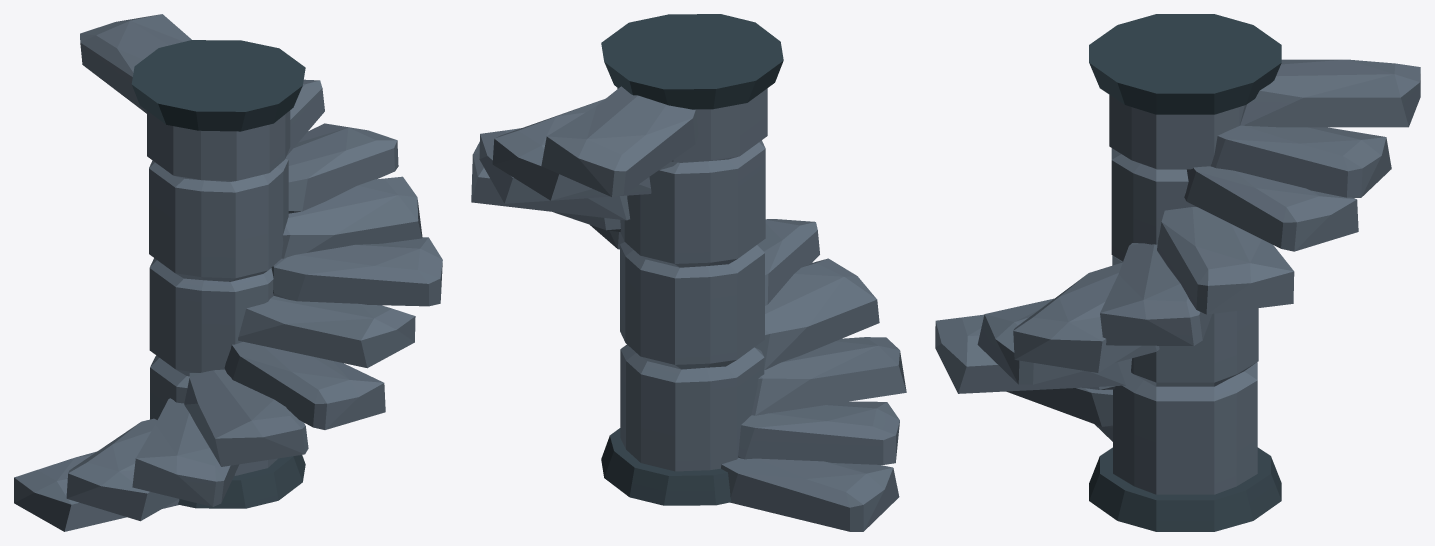
Rendered from Staircase_stone_thin_A.fbx.
The picture shows the model from 3 angles, left to right: view 1: azimuth 30°, elevation 25°; view 2: azimuth 150°, elevation 25°; view 3: azimuth 270°, elevation 25°; orthographic projection. The views are drawn at different scales.
Parts seen in each view (by area): view 1: Staircase_stone_thin_A; view 2: Staircase_stone_thin_A; view 3: Staircase_stone_thin_A.
Boxes of the visible parts, <box> form: Staircase_stone_thin_A: <box>14,14,442,531</box>; Staircase_stone_thin_A: <box>471,14,906,531</box>; Staircase_stone_thin_A: <box>935,14,1420,531</box>.
Bounding box in the file's own units: 294 × 300 × 300.
